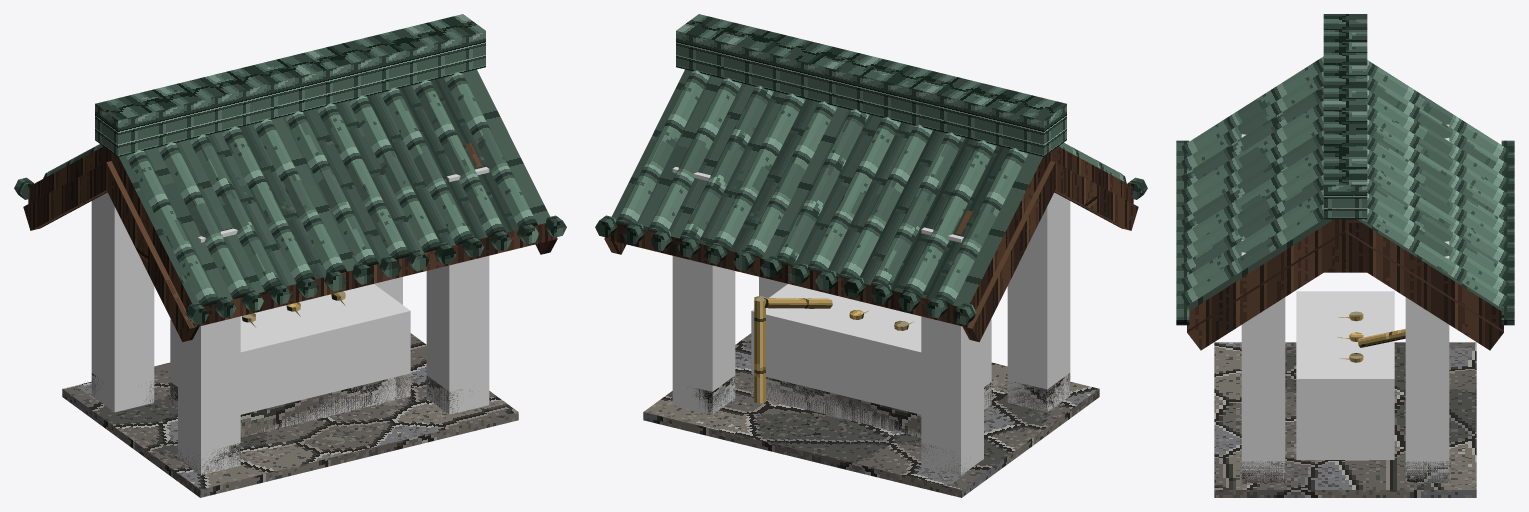
The model's file is JP_Temple_Temizuya_A.glb.
The picture shows the model from 3 angles, left to right: view 1: azimuth 30°, elevation 25°; view 2: azimuth 150°, elevation 25°; view 3: azimuth 270°, elevation 25°; orthographic projection. The views are drawn at different scales.
Visible parts, largest first — view 1: JP_Temple_Temizuya_A, COL_JP_Temple_Temizuya_A, COL_JP_Temple_Temizuya_A_017, COL_JP_Temple_Temizuya_A_22, COL_JP_Temple_Temizuya_A_02; view 2: JP_Temple_Temizuya_A, COL_JP_Temple_Temizuya_A, COL_JP_Temple_Temizuya_A_02, COL_JP_Temple_Temizuya_A_217, COL_JP_Temple_Temizuya_A_017; view 3: JP_Temple_Temizuya_A, COL_JP_Temple_Temizuya_A, COL_JP_Temple_Temizuya_A_217, COL_JP_Temple_Temizuya_A_22.
Boxes of the visible parts, bbox=[...] form: JP_Temple_Temizuya_A: bbox=[14, 14, 566, 497]; COL_JP_Temple_Temizuya_A: bbox=[170, 284, 410, 436]; COL_JP_Temple_Temizuya_A_017: bbox=[91, 192, 154, 412]; COL_JP_Temple_Temizuya_A_22: bbox=[426, 167, 489, 414]; COL_JP_Temple_Temizuya_A_02: bbox=[178, 228, 240, 475]; JP_Temple_Temizuya_A: bbox=[595, 14, 1147, 497]; COL_JP_Temple_Temizuya_A: bbox=[751, 284, 991, 437]; COL_JP_Temple_Temizuya_A_02: bbox=[1007, 192, 1070, 412]; COL_JP_Temple_Temizuya_A_217: bbox=[672, 167, 735, 414]; COL_JP_Temple_Temizuya_A_017: bbox=[921, 227, 983, 475]; JP_Temple_Temizuya_A: bbox=[1176, 14, 1514, 497]; COL_JP_Temple_Temizuya_A: bbox=[1296, 291, 1394, 459]; COL_JP_Temple_Temizuya_A_217: bbox=[1405, 241, 1449, 482]; COL_JP_Temple_Temizuya_A_22: bbox=[1241, 240, 1285, 482].
Size of the model in its own units: 3.77 by 3.28 by 3.1.
Materials: 8 (8 with a texture image).
